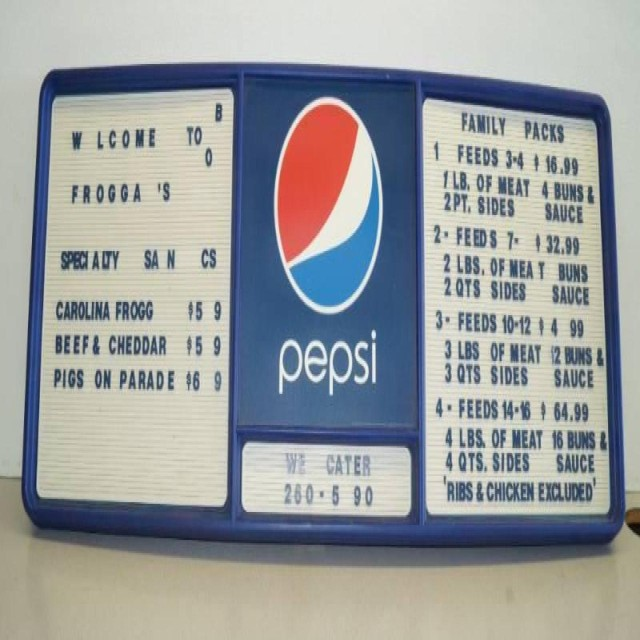pepsi: (272, 97, 384, 318)
